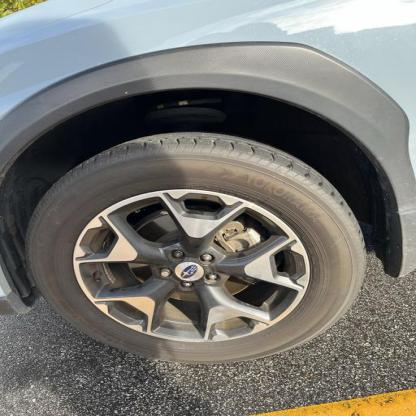Tire: (29, 131, 368, 364)
